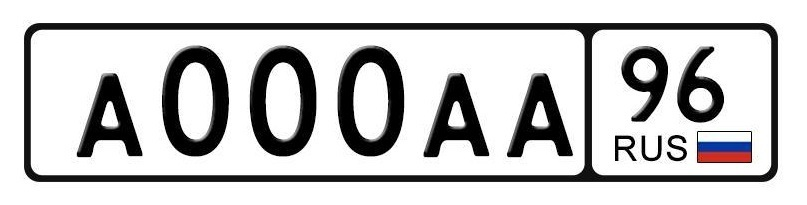number_plate: (34, 26, 769, 172)
